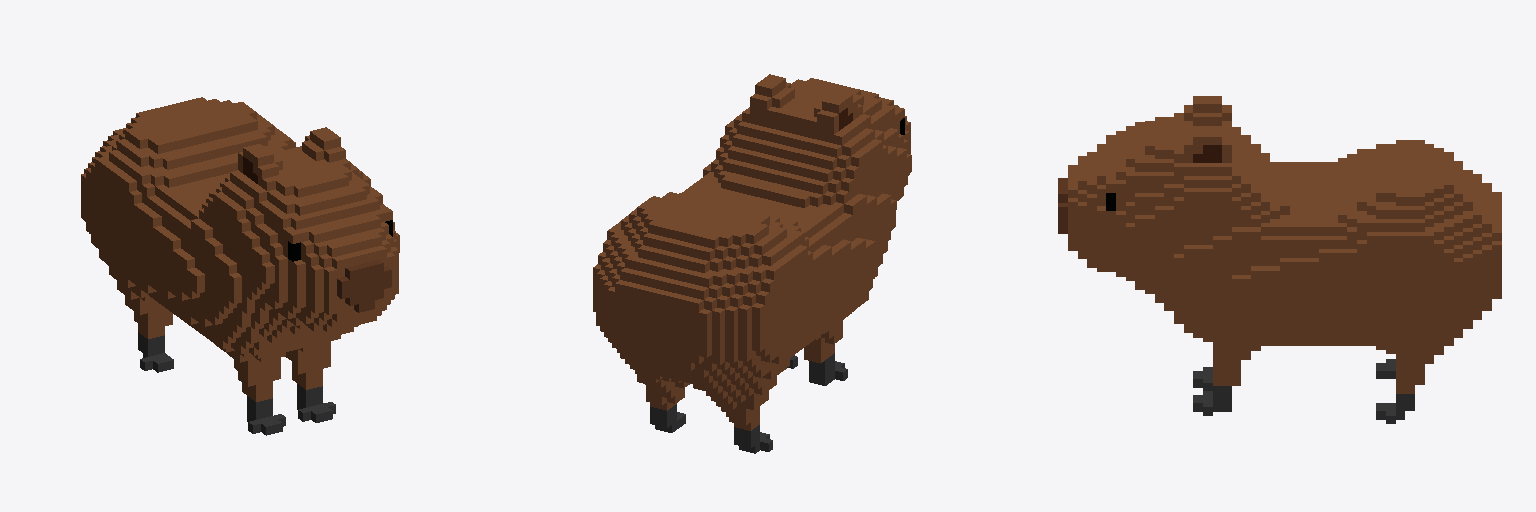
3 views of the same model, side by side, from view 1: azimuth 30°, elevation 25°; view 2: azimuth 150°, elevation 25°; view 3: azimuth 270°, elevation 25° (orthographic).
Visible parts, largest first — view 1: object 1; view 2: object 1; view 3: object 1.
Part boxes in pixels (left/top/right/bottom): object 1: left=81, top=97, right=399, bottom=435; object 1: left=593, top=74, right=911, bottom=453; object 1: left=1058, top=96, right=1501, bottom=423.
Size of the model in its own units: 2 by 3.2 by 4.6.
1 materials, 1 textured.